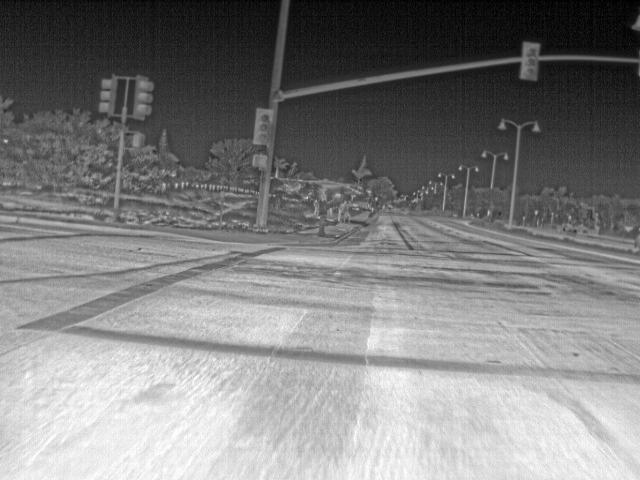person: (336, 200, 347, 222), (311, 198, 321, 219), (344, 201, 354, 222), (326, 207, 335, 221)
